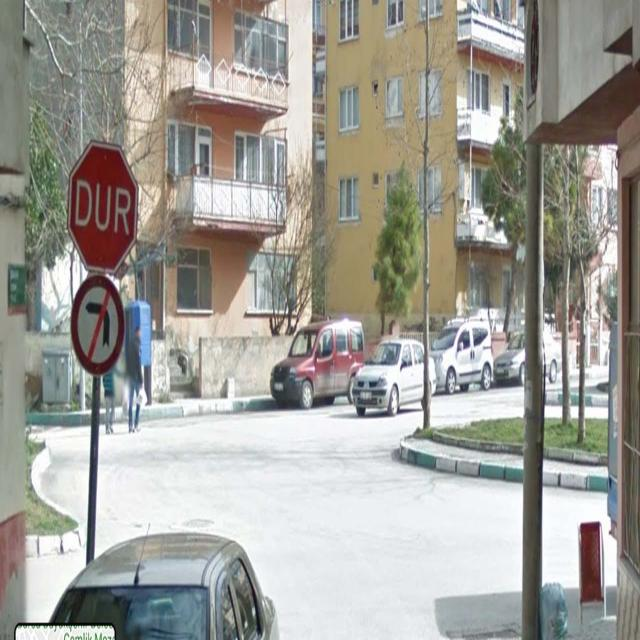dur: (67, 141, 138, 276)
soladonulmez: (70, 274, 126, 376)
